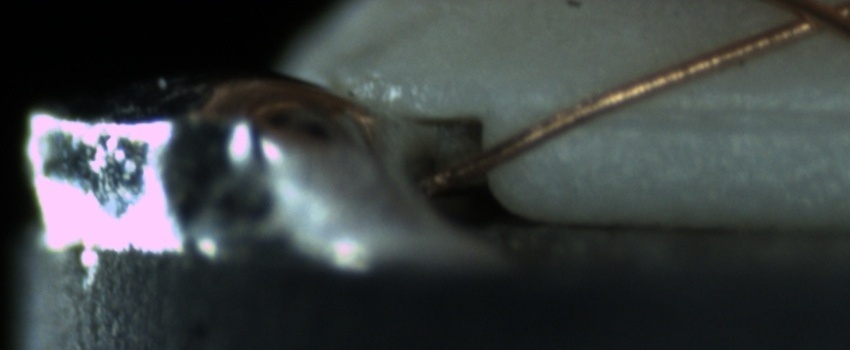CL: (764, 0, 847, 44)
DL: (559, 79, 848, 149)
